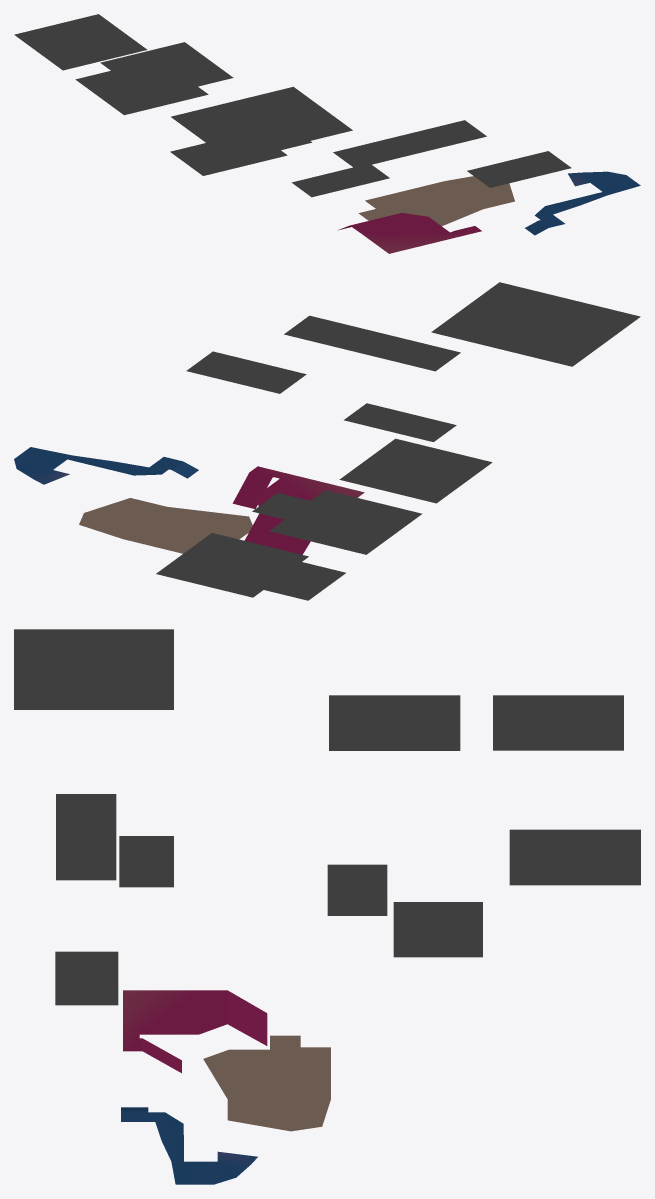
Rendered from SM_Tile_01.fbx.
3 views of the same model, one above another, from view 1: azimuth 30°, elevation 25°; view 2: azimuth 150°, elevation 25°; view 3: azimuth 270°, elevation 25° (orthographic). The views are drawn at different scales.
Parts seen in each view (by area): view 1: SM_Tile_01; view 2: SM_Tile_01; view 3: SM_Tile_01.
Part boxes in pixels (bbox=[...]): SM_Tile_01: bbox=[14, 14, 640, 253]; SM_Tile_01: bbox=[14, 282, 640, 600]; SM_Tile_01: bbox=[14, 629, 640, 1184].
Bounding box in the file's own units: 12023 × 4595 × 10340.
